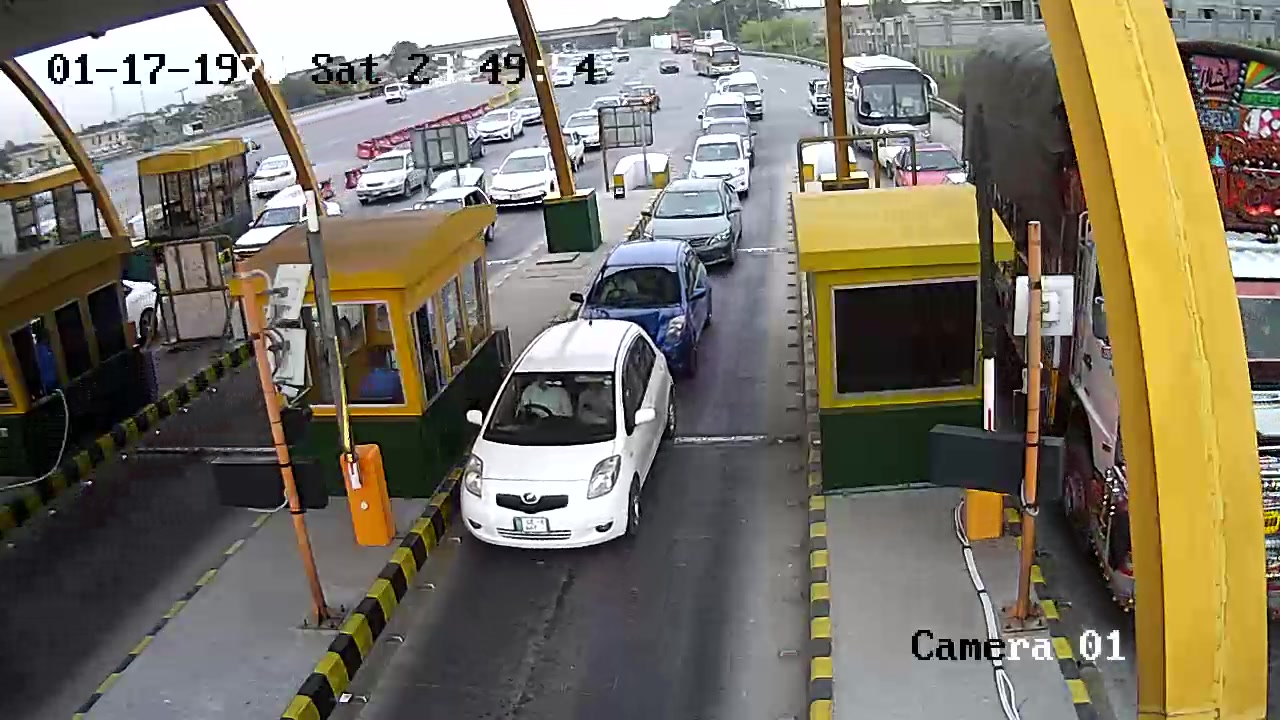F1: (450, 312, 680, 554)
